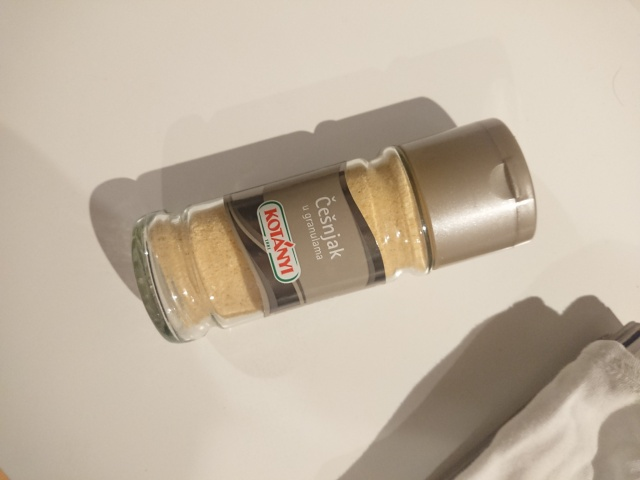Kotanyi Garlic Granules 70g: (129, 114, 541, 348)
